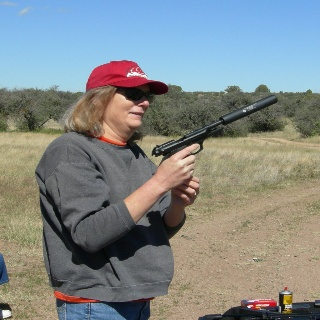pistol: (151, 94, 277, 166)
